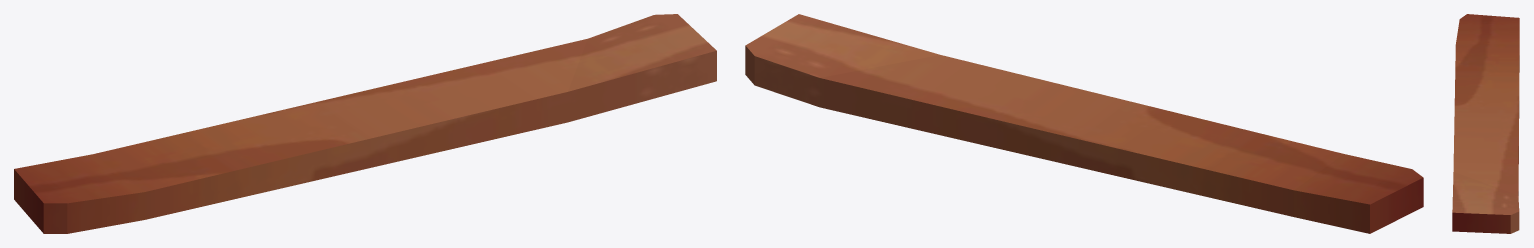
Rendered from SM_Plank_03.fbx.
The picture shows the model from 3 angles, left to right: view 1: azimuth 30°, elevation 25°; view 2: azimuth 150°, elevation 25°; view 3: azimuth 270°, elevation 25°; orthographic projection. The views are drawn at different scales.
Visible parts, largest first — view 1: SM_Plank_03; view 2: SM_Plank_03; view 3: SM_Plank_03.
Part boxes in pixels (bbox=[...]): SM_Plank_03: bbox=[14, 14, 716, 233]; SM_Plank_03: bbox=[745, 14, 1423, 233]; SM_Plank_03: bbox=[1452, 14, 1519, 233].
Size of the model in its own units: 1.42 by 0.08 by 0.2001.
